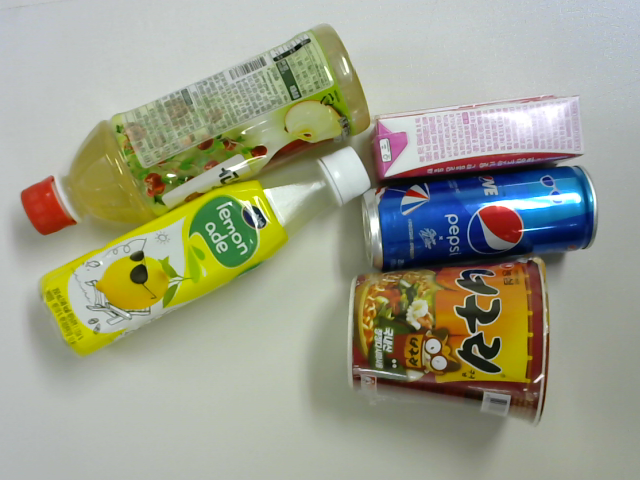Morning_Apple_500ml: (17, 24, 373, 244)
Pepsi_Cola_Can_250ml: (365, 164, 599, 266)
Raccoon: (347, 260, 555, 422)
Strawberry_E_Mong: (367, 94, 591, 176)
Sunkist_Lemonaid_Pet: (33, 154, 373, 352)
